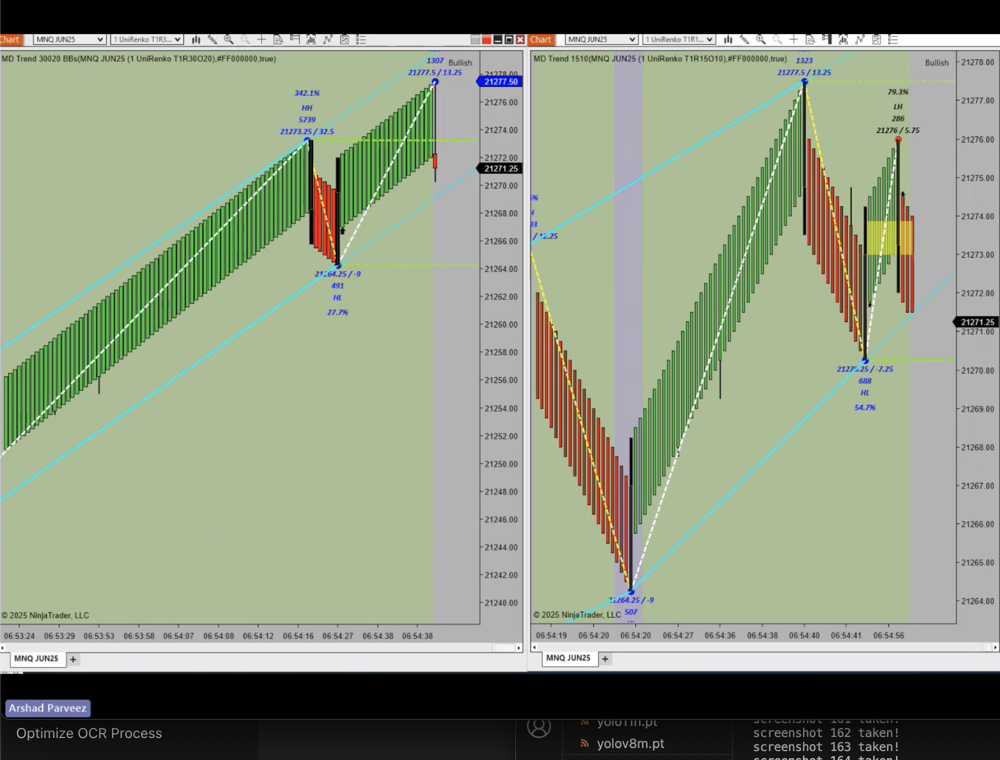HH: (296, 99, 324, 120)
HL: (326, 290, 355, 312), (853, 384, 881, 404)
LH: (887, 98, 910, 116)
